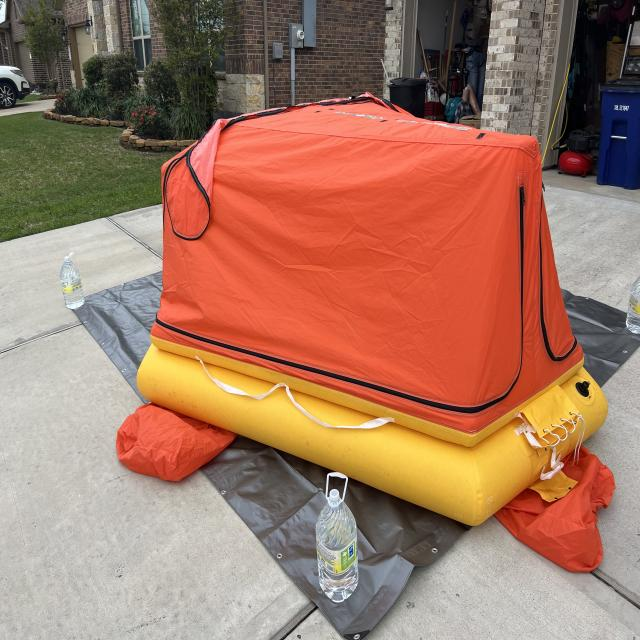Multi-person_life_raft: (117, 91, 617, 573)
